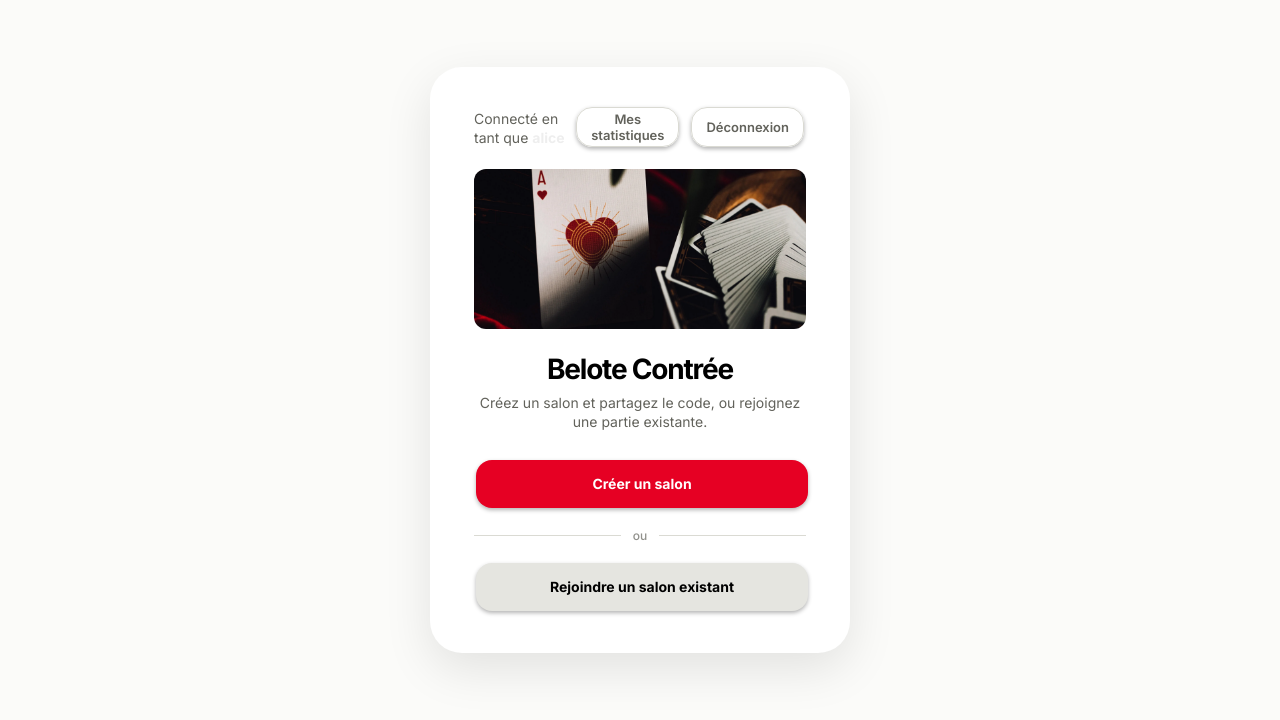
Test: App — rejoindre un salon › revient au lobby avec un message d'erreur si le salon est introuvable (pas de boucle de reconnexion)
Step 1. Click the button "Rejoindre un salon existant" → (642,587), box [476,563,808,611]
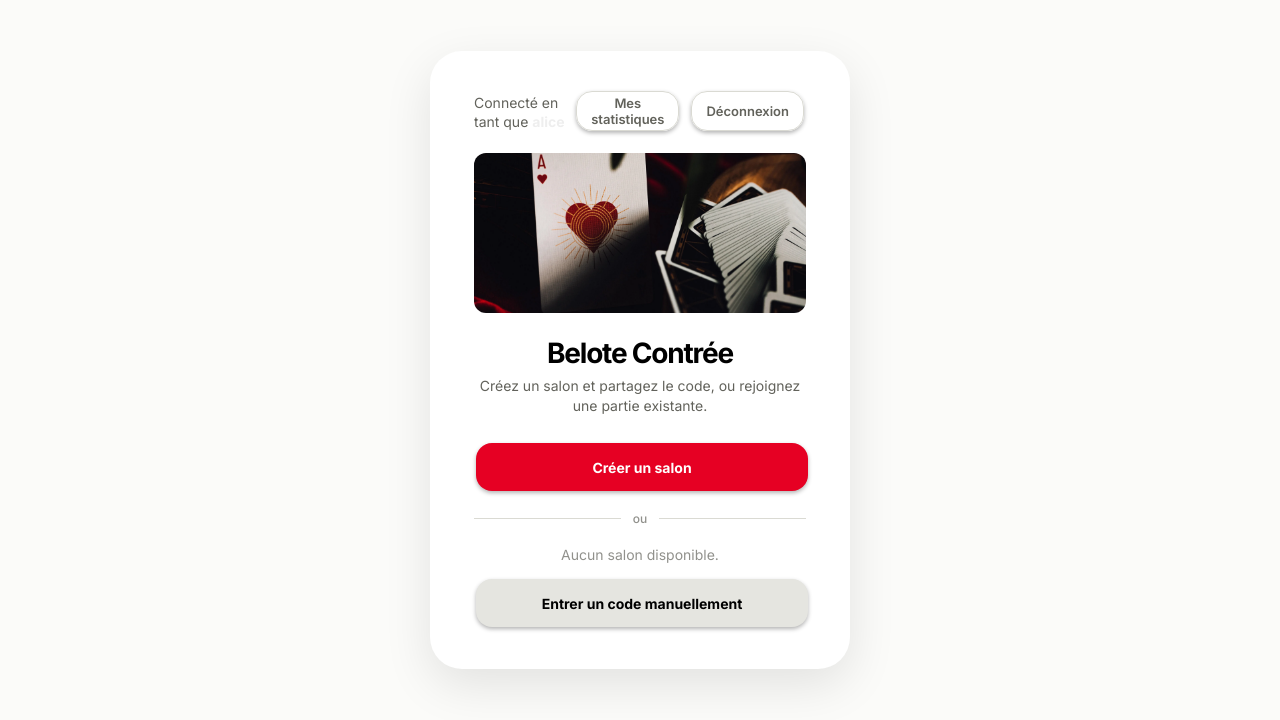
Check: the button "Entrer un code manuellement" is shown
Step 2. Click the button "Entrer un code manuellement" → (642,603), box [476,579,808,627]
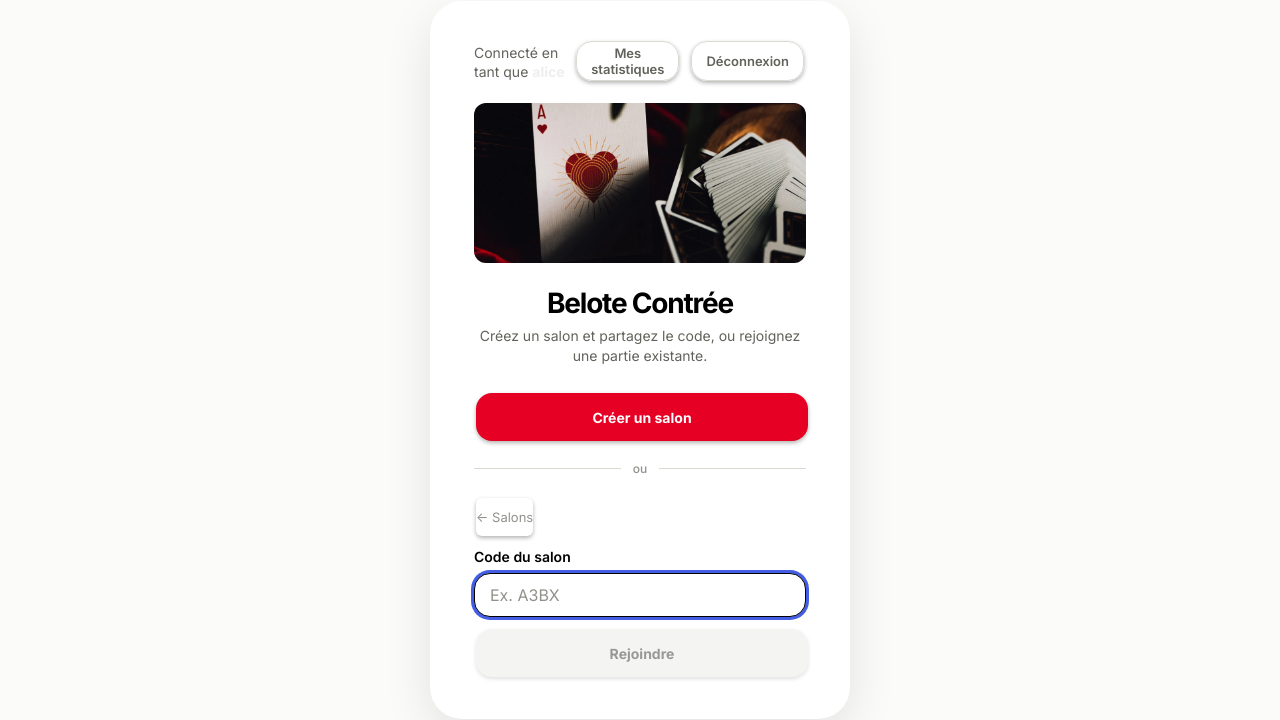
Step 3. Type "XXXX" into the field labelled "Code du salon" → (640,595), box [474,573,806,617]
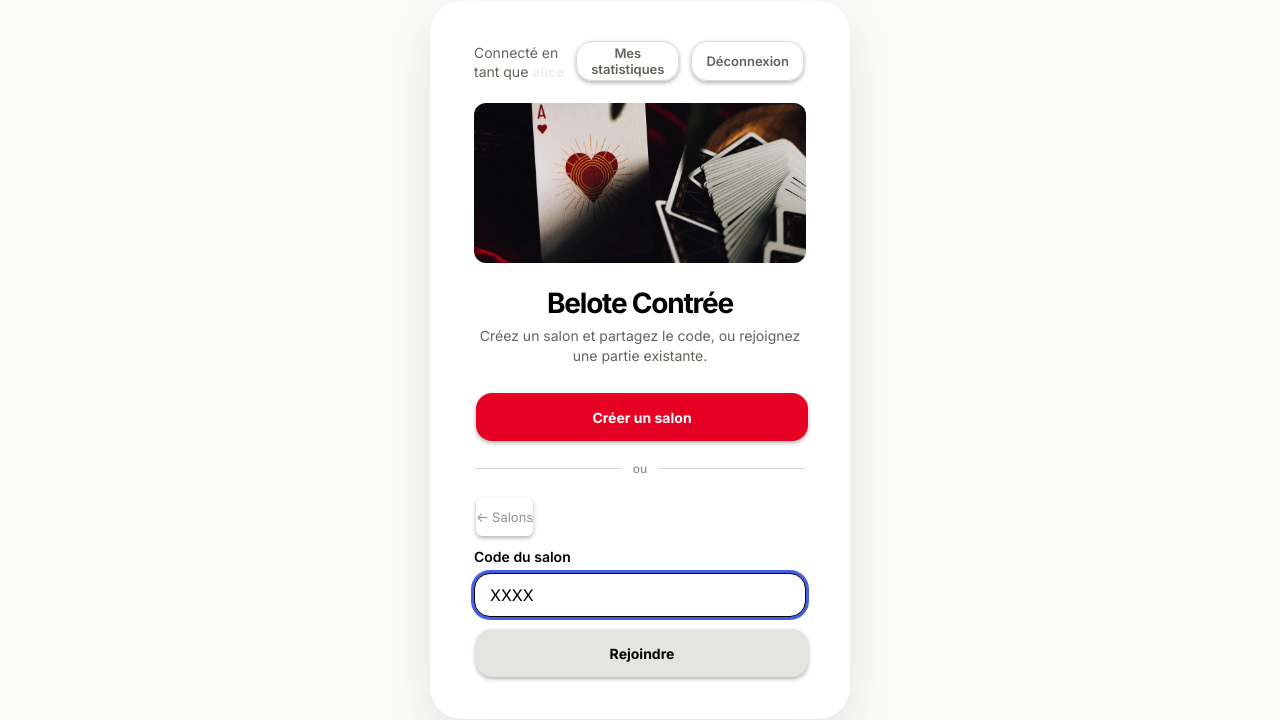
Step 4. Click the button "Rejoindre" → (642,653), box [476,629,808,677]
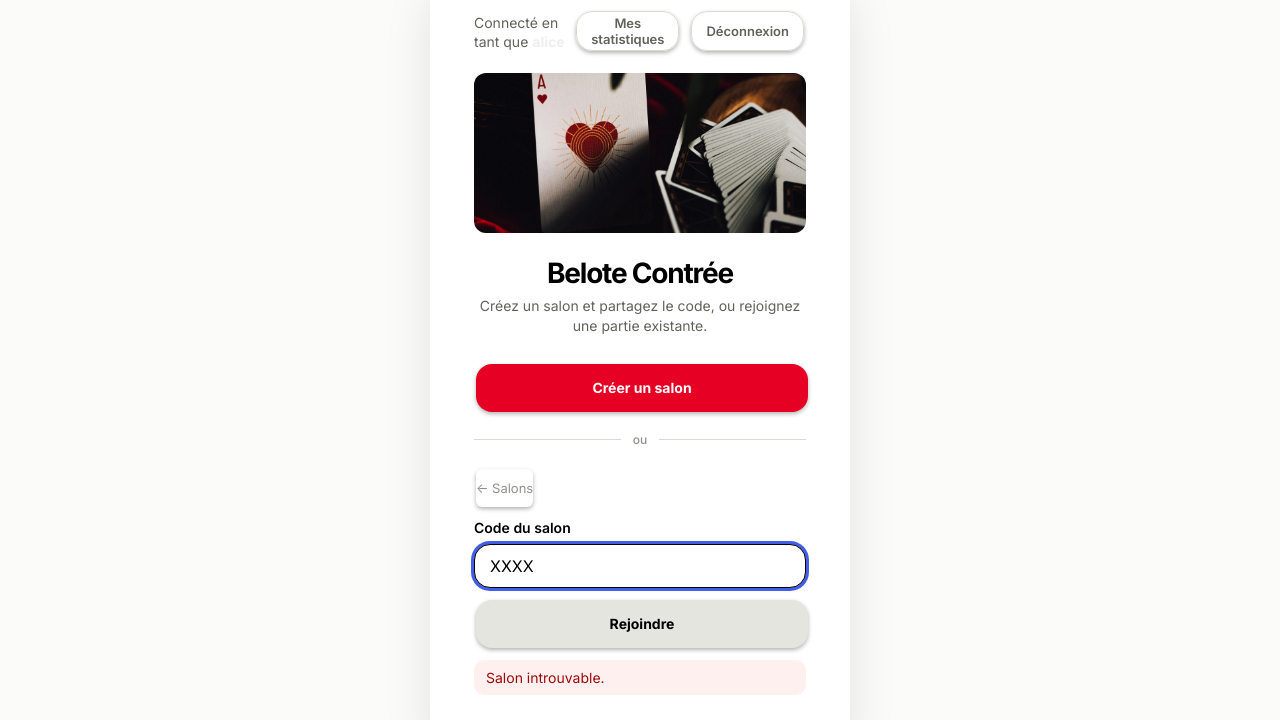
Check: the text "Salon introuvable." is shown, box [474,660,806,695]
